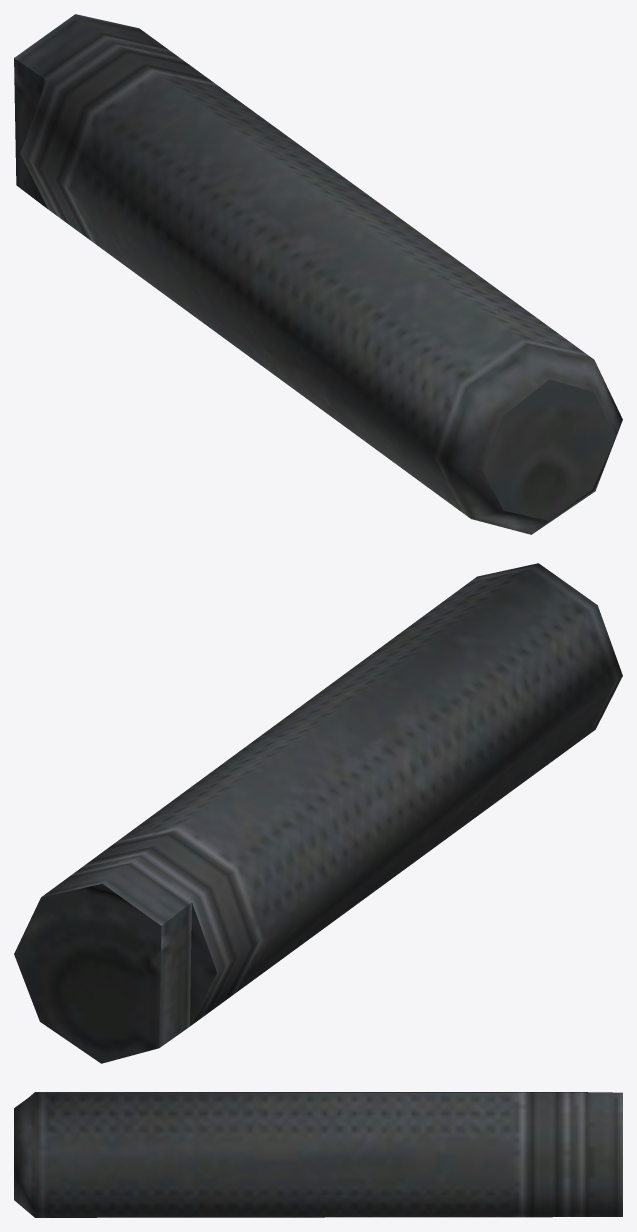
File: Pickup_WeaponXsq02.glb
3 views of the same model, one above another, from view 1: azimuth 30°, elevation 25°; view 2: azimuth 150°, elevation 25°; view 3: azimuth 270°, elevation 25° (orthographic). The views are drawn at different scales.
Visible parts, largest first — view 1: pk_weapon_xsq02; view 2: pk_weapon_xsq02; view 3: pk_weapon_xsq02.
Boxes of the visible parts, x1=… form: pk_weapon_xsq02: x1=14, y1=14, x2=622, y2=534; pk_weapon_xsq02: x1=14, y1=563, x2=622, y2=1063; pk_weapon_xsq02: x1=14, y1=1092, x2=622, y2=1217.
Size of the model in its own units: 0.1574 by 0.1579 by 0.7111.
Materials: 1 (1 with a texture image).
